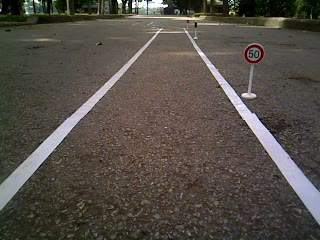limit 50: (242, 42, 266, 65)
